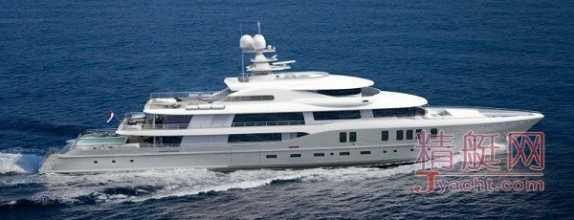yacht: (35, 53, 542, 179)
